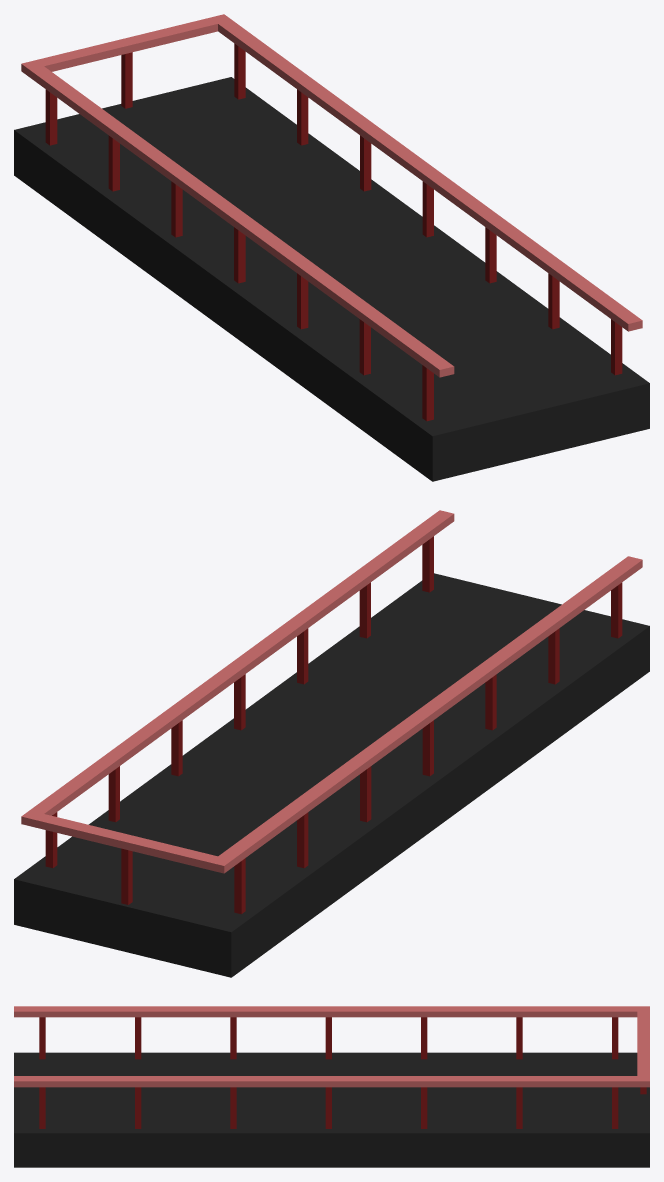
The model's file is Platform_end.fbx.
The picture shows the model from 3 angles, top to bottom: view 1: azimuth 30°, elevation 25°; view 2: azimuth 150°, elevation 25°; view 3: azimuth 270°, elevation 25°; orthographic projection. The views are drawn at different scales.
Parts seen in each view (by area): view 1: Boden, Gelaender, GelaenderStuzen; view 2: Boden, Gelaender, GelaenderStuzen; view 3: Boden, Gelaender, GelaenderStuzen.
Boxes of the visible parts, bbox=[...] form: Boden: bbox=[14, 77, 649, 481]; Gelaender: bbox=[21, 14, 642, 377]; GelaenderStuzen: bbox=[45, 43, 622, 421]; Boden: bbox=[14, 573, 649, 977]; Gelaender: bbox=[21, 510, 642, 873]; GelaenderStuzen: bbox=[45, 536, 622, 914]; Boden: bbox=[14, 1052, 649, 1167]; Gelaender: bbox=[14, 1006, 649, 1087]; GelaenderStuzen: bbox=[39, 1017, 646, 1128].
Bounding box in the file's own units: 300 × 145 × 1000.
